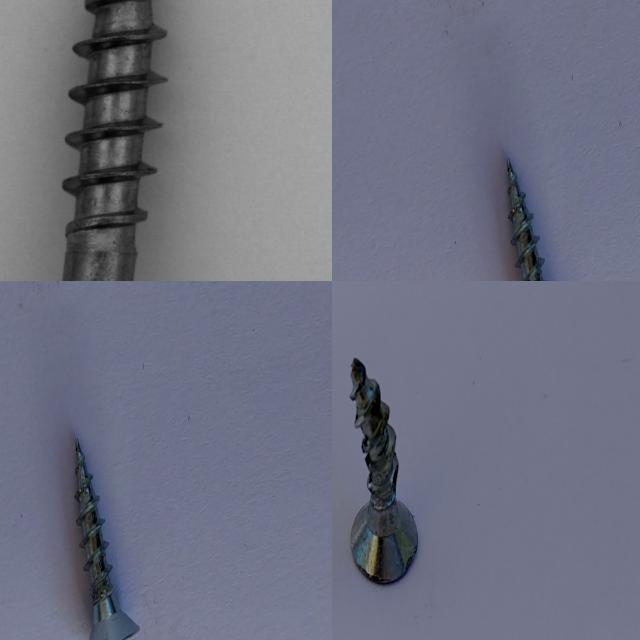Screw: (0, 0, 205, 281), (351, 357, 418, 583), (75, 438, 140, 640), (507, 158, 546, 281)
